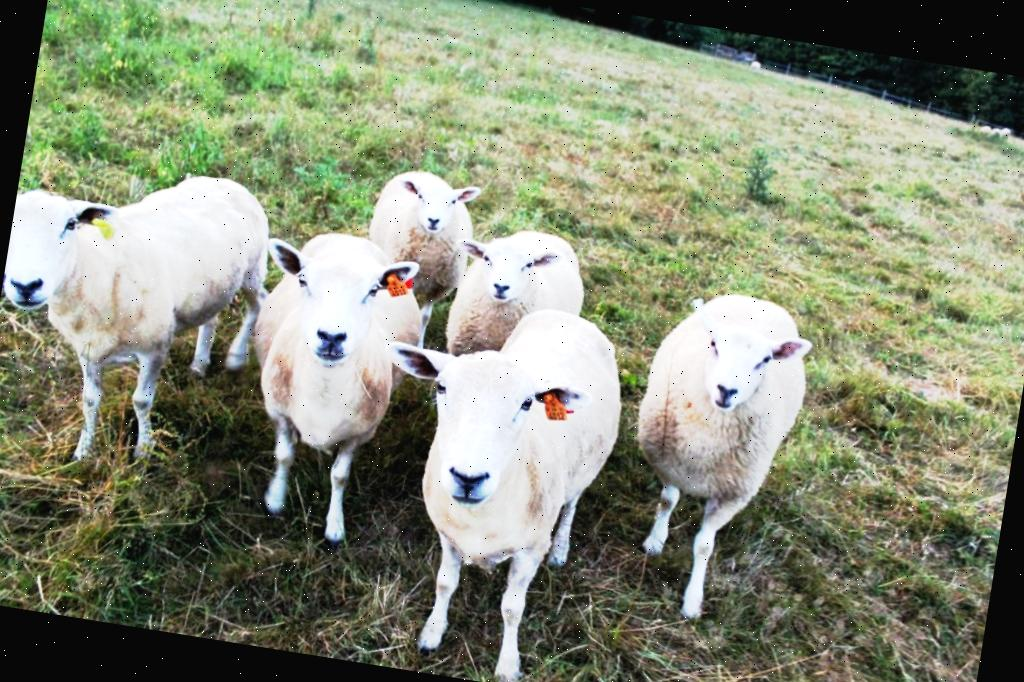Sheep: (332, 281, 638, 682), (0, 140, 290, 511), (598, 276, 832, 637), (216, 217, 447, 568), (434, 212, 596, 397), (354, 159, 486, 329)
